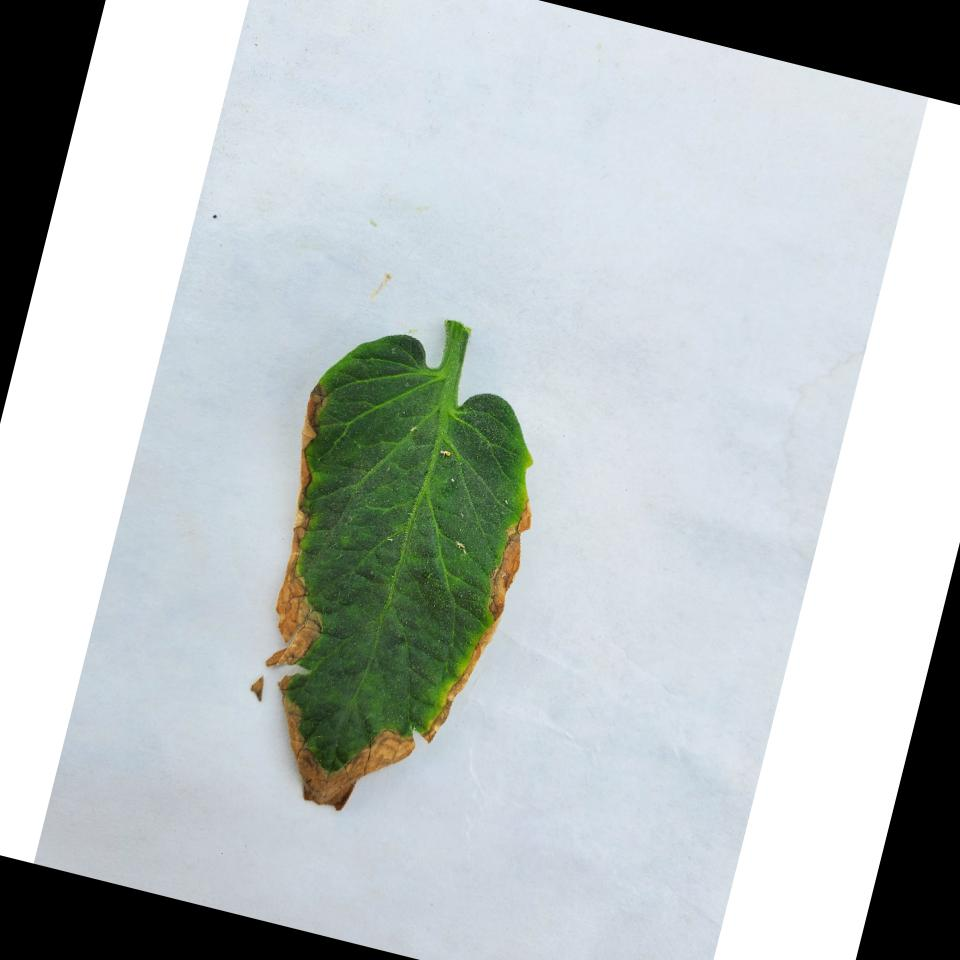tomato_bacterial_blight: (202, 298, 567, 833)
